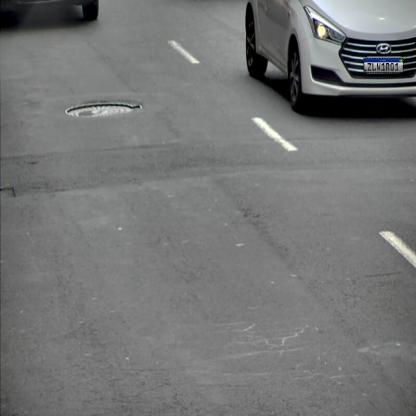PlacaM: (364, 58, 404, 73)
